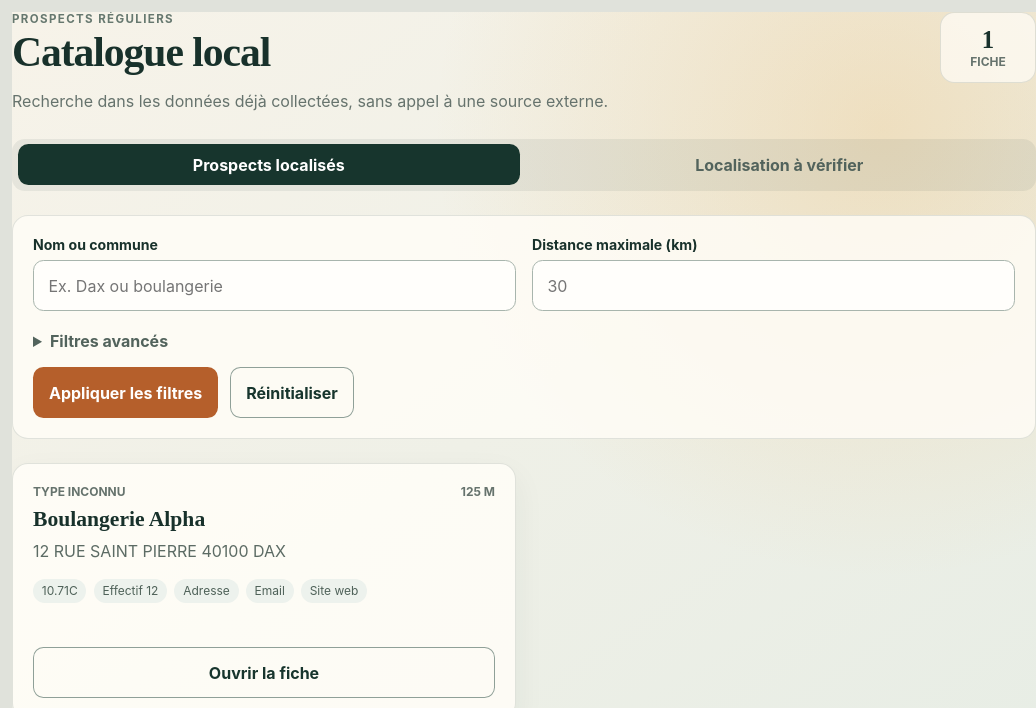
Test: prospect catalogue › keeps unknown locations separate and omits the distance filter
The width and height of the screenshot is (1036, 708).
Check: the heading "Boulangerie Alpha" is shown, box [33,506,205,530]
Type "15" into the number field labelled "Distance maximale (km)" at (774, 286), box [532,260,1015,311]
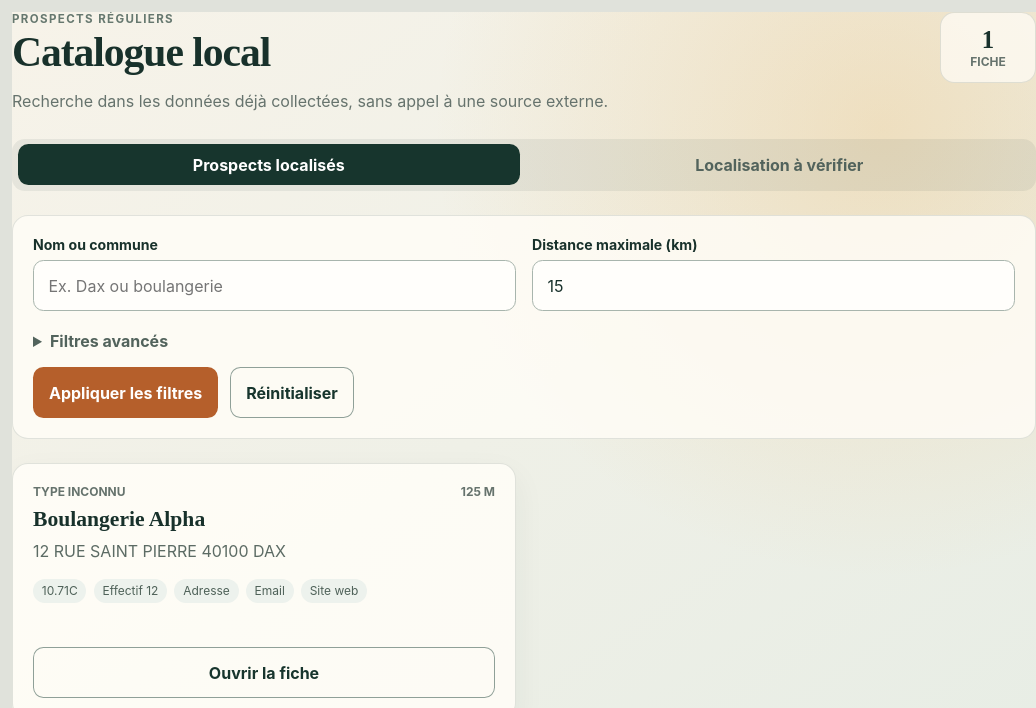
Click the button "Appliquer les filtres" at (126, 393), box [33,367,218,418]
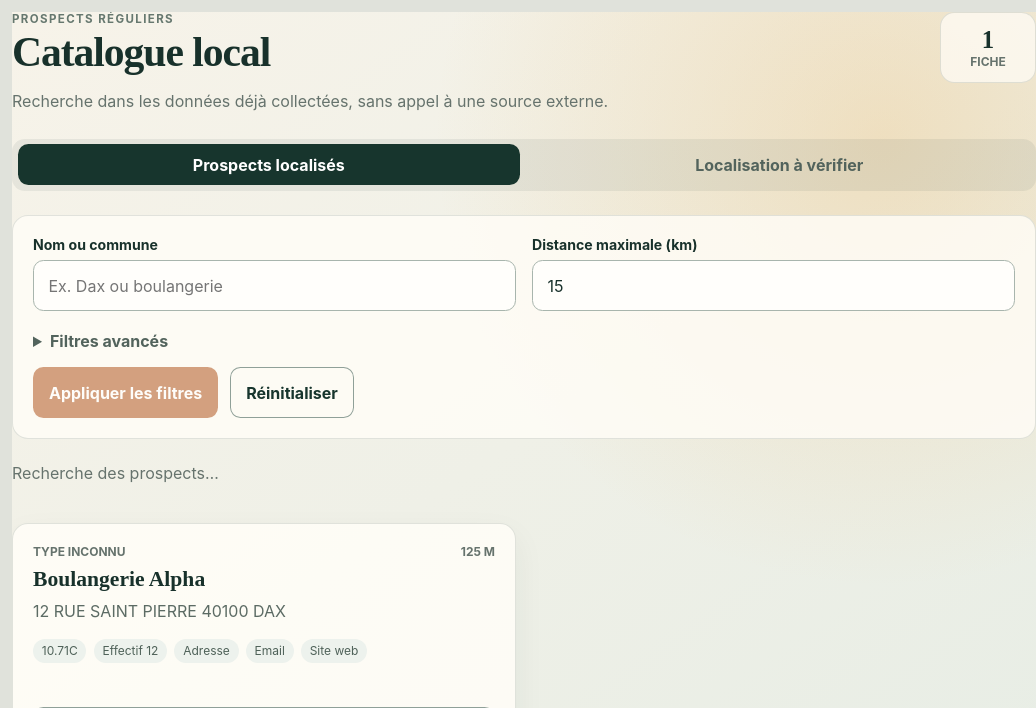
Click the button "Localisation à vérifier" at (779, 165), box [528,144,1030,185]
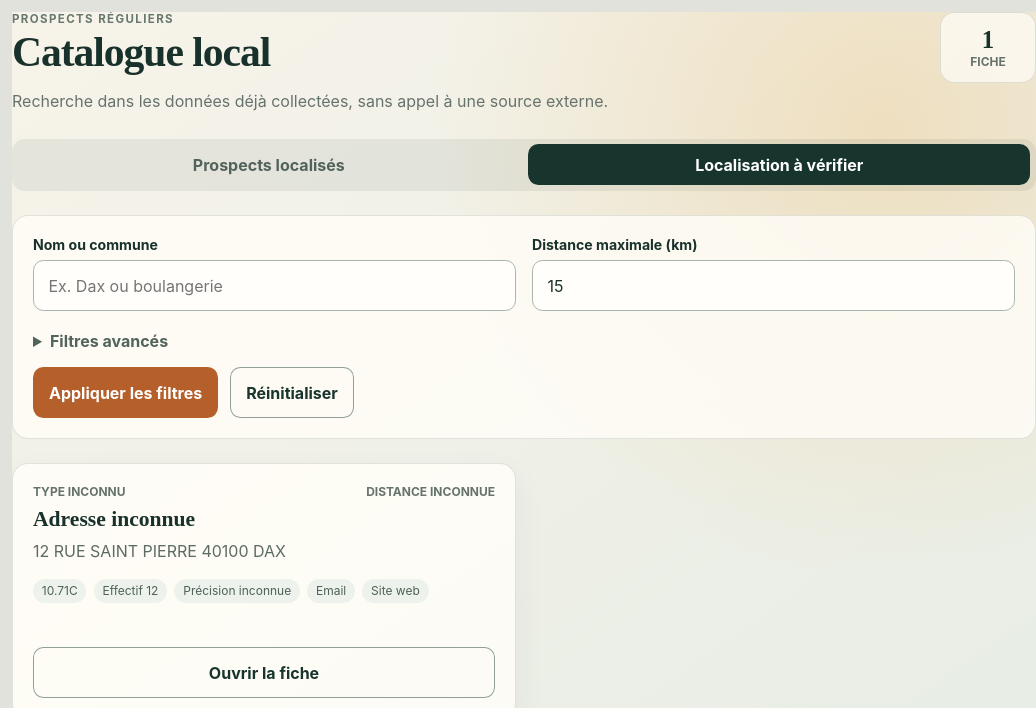
Check: the heading "Adresse inconnue" is shown, box [33,506,195,530]
Check: the text "Distance inconnue" is shown, box [366,484,495,499]
